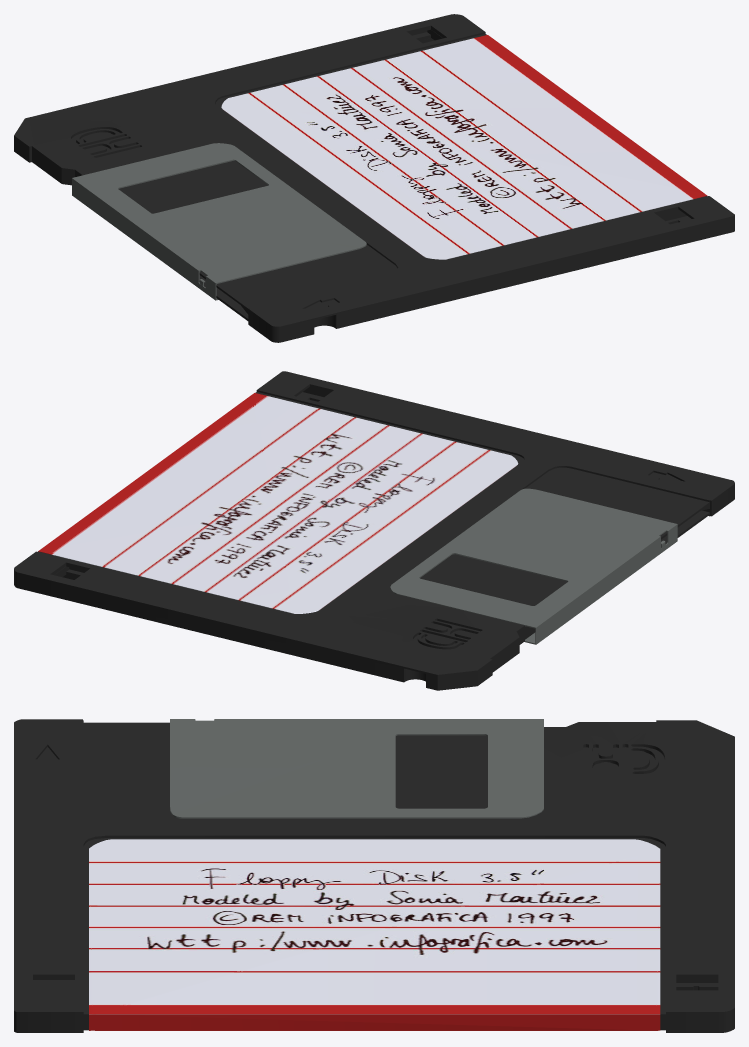
Rendered from Diskette.FBX.
The picture shows the model from 3 angles, top to bottom: view 1: azimuth 30°, elevation 25°; view 2: azimuth 150°, elevation 25°; view 3: azimuth 270°, elevation 25°; orthographic projection. The views are drawn at different scales.
Visible parts, largest first — view 1: F8012TK1, F8012BAS, F8012COR; view 2: F8012TK1, F8012BAS, F8012COR; view 3: F8012TK1, F8012BAS, F8012COR, F8012TK2.
Part boxes in pixels (x1,y1,x2,y2): F8012TK1: [221, 35, 707, 259]; F8012BAS: [14, 14, 734, 342]; F8012COR: [72, 143, 366, 300]; F8012TK1: [38, 393, 518, 613]; F8012BAS: [14, 371, 734, 690]; F8012COR: [390, 488, 677, 644]; F8012TK1: [89, 839, 660, 1014]; F8012BAS: [14, 719, 734, 1032]; F8012COR: [170, 719, 543, 818]; F8012TK2: [89, 1014, 660, 1030].
Size of the model in its own units: 2893 by 104 by 3008.
Materials: 4 (2 with a texture image).
